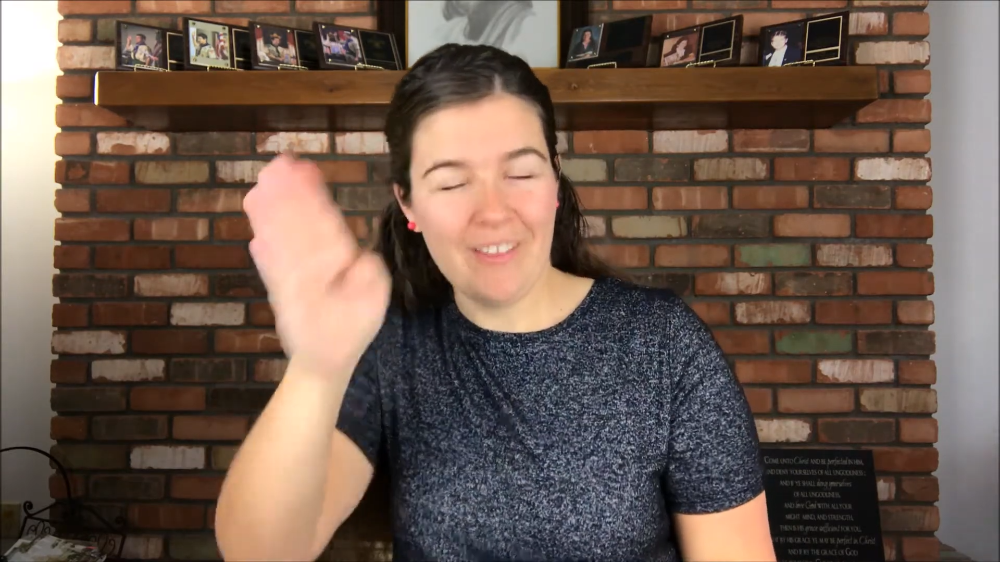hello: (233, 146, 395, 366)
